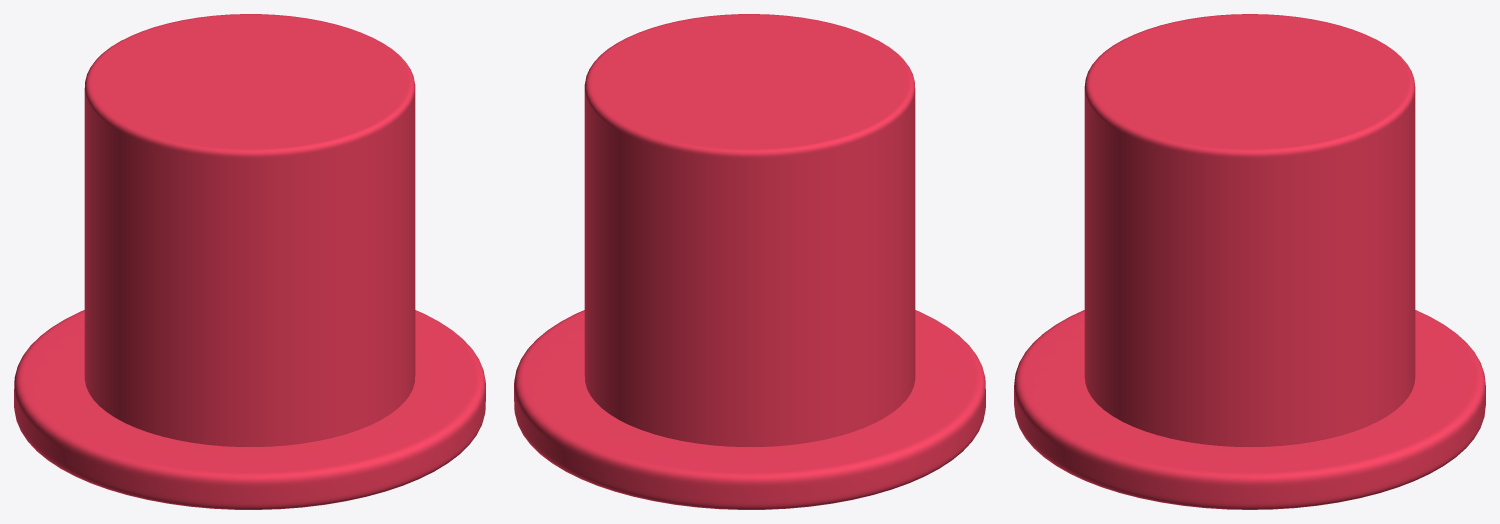
Rendered from tophat.obj.
The picture shows the model from 3 angles, left to right: view 1: azimuth 30°, elevation 25°; view 2: azimuth 150°, elevation 25°; view 3: azimuth 270°, elevation 25°; orthographic projection.
Visible parts, largest first — view 1: Cylinder_Cylinder.001, Cylinder.001_Cylinder.003; view 2: Cylinder_Cylinder.001, Cylinder.001_Cylinder.003; view 3: Cylinder_Cylinder.001, Cylinder.001_Cylinder.003.
Boxes of the visible parts, x1,y1,x2,y2 form: Cylinder_Cylinder.001: (84,14,415,446); Cylinder.001_Cylinder.003: (14,310,485,509); Cylinder_Cylinder.001: (584,14,915,446); Cylinder.001_Cylinder.003: (514,310,985,509); Cylinder_Cylinder.001: (1084,14,1415,446); Cylinder.001_Cylinder.003: (1014,310,1485,509).
Bounding box in the file's own units: 2.84 × 2.2 × 2.84.
1 material, 1 textured.
